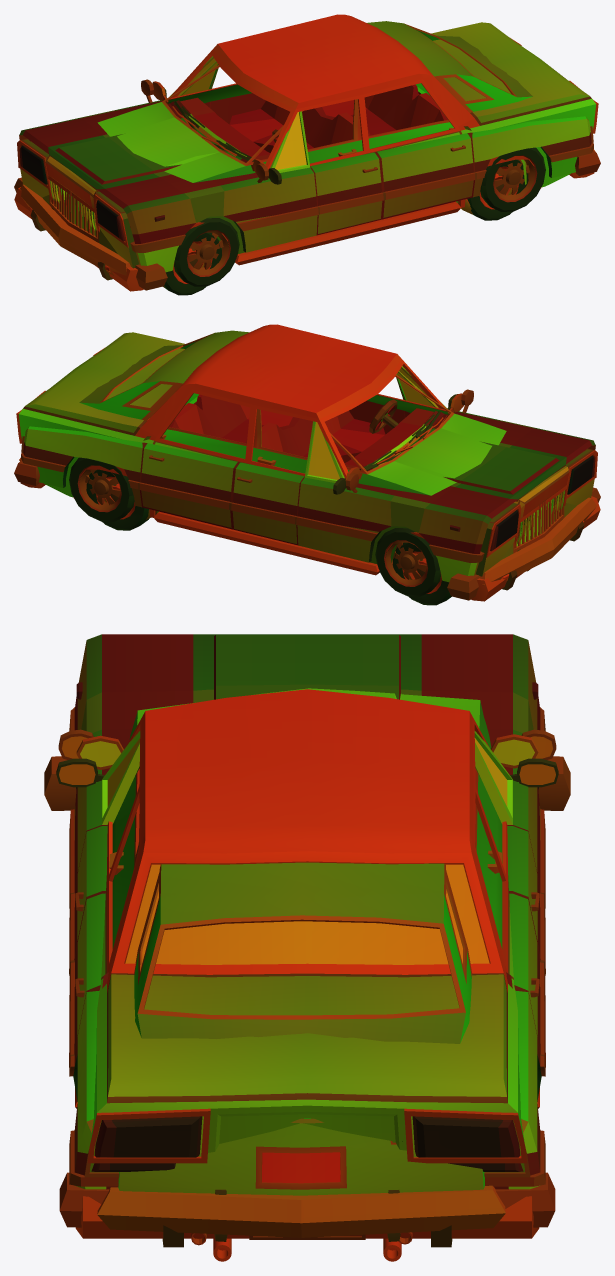
File: Cars.fbx
3 renders of one model, top to bottom at view 1: azimuth 30°, elevation 25°; view 2: azimuth 150°, elevation 25°; view 3: azimuth 270°, elevation 25°, orthographic. The views are drawn at different scales.
Parts seen in each view (by area): view 1: Car body.7, Car body.13, Car.6; view 2: Car body.7, Car body.13, Car.6; view 3: Car body.13, Car.6, Car body.7.
Part boxes in pixels (x1,y1,x2,y2): Car body.7: (14,56,600,290); Car body.13: (14,14,598,295); Car.6: (20,21,595,287); Car body.7: (14,366,600,600); Car body.13: (16,324,600,605); Car.6: (19,330,596,585); Car body.13: (56,689,558,1261); Car.6: (76,688,538,1245); Car body.7: (44,634,570,1241).
Size of the model in its own units: 5.07 by 1.55 by 2.33.
